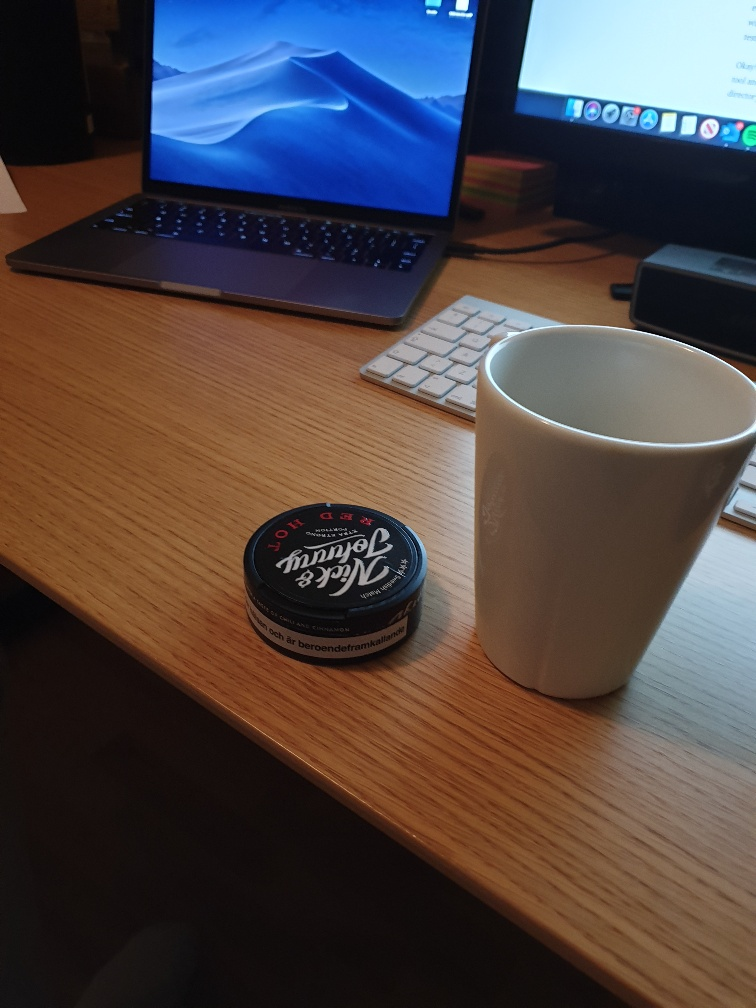snus: (229, 497, 435, 672)
